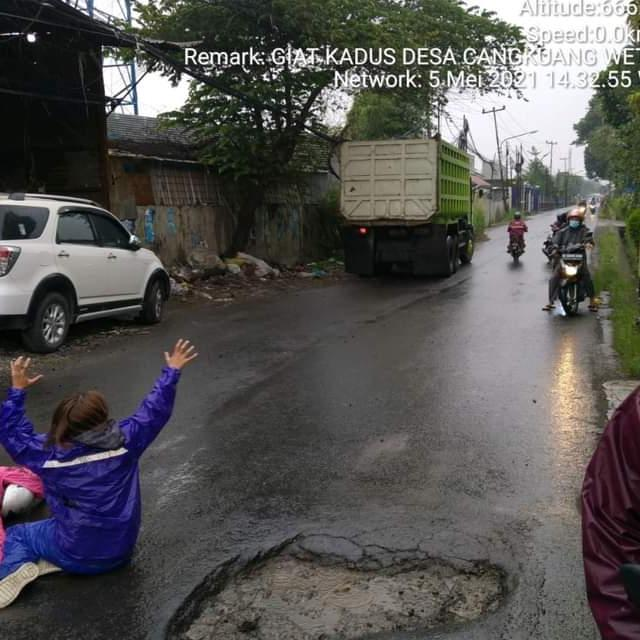lubang_kecil: (157, 482, 525, 640)
